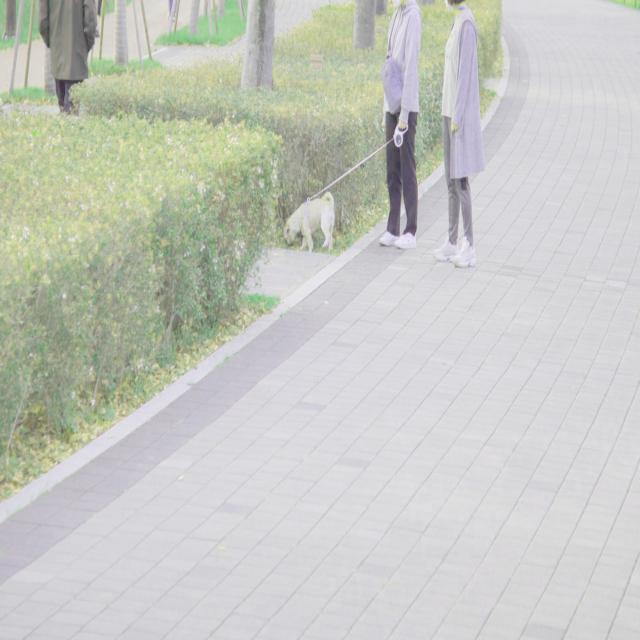Leashed_Dog: (283, 131, 393, 252)
